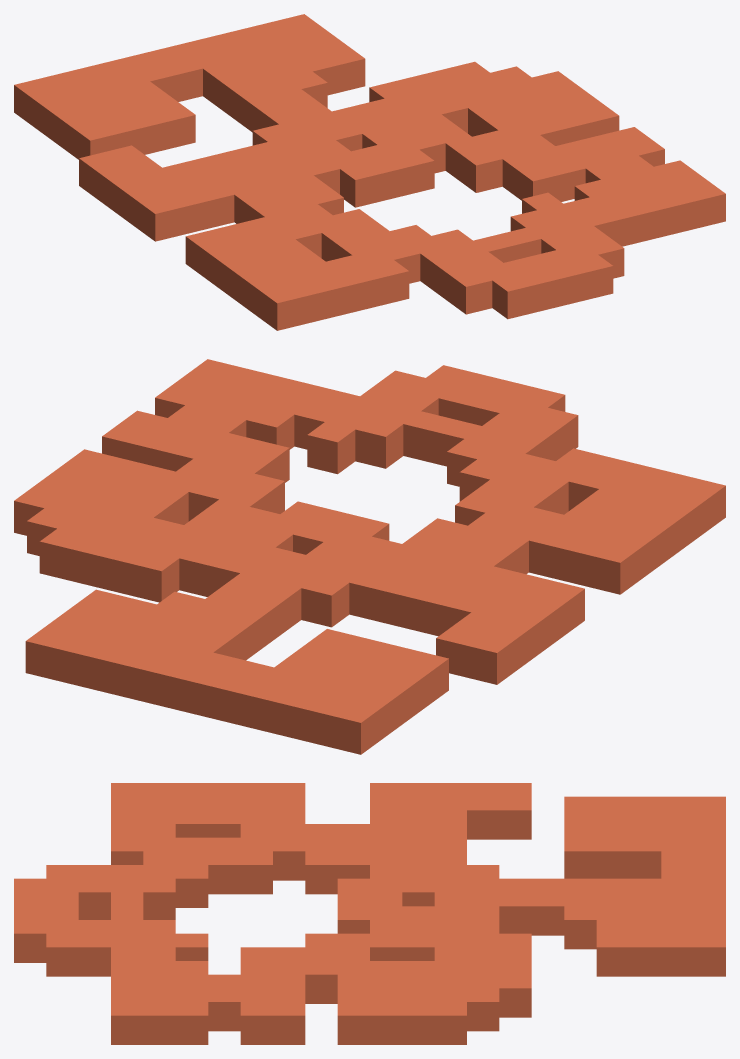
Rendered from MazeFloor1.fbx.
The picture shows the model from 3 angles, top to bottom: view 1: azimuth 30°, elevation 25°; view 2: azimuth 150°, elevation 25°; view 3: azimuth 270°, elevation 25°; orthographic projection. The views are drawn at different scales.
Parts seen in each view (by area): view 1: HoleFloor; view 2: HoleFloor; view 3: HoleFloor.
Boxes of the visible parts, x1=… form: HoleFloor: x1=14, y1=14, x2=725, y2=330; HoleFloor: x1=14, y1=359, x2=725, y2=754; HoleFloor: x1=14, y1=783, x2=725, y2=1044.
Size of the model in its own units: 3400 by 200 by 4400.
